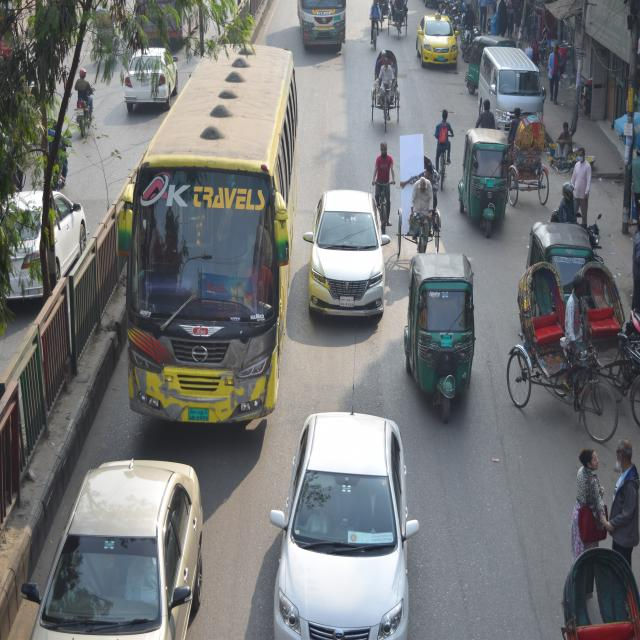bus: (119, 34, 306, 440), (290, 0, 354, 52)
car: (260, 402, 423, 640), (19, 439, 214, 635), (302, 180, 395, 327), (0, 175, 89, 309), (120, 37, 179, 110), (416, 4, 460, 74)
microbus: (478, 44, 546, 135)
motorbike: (73, 70, 101, 144), (575, 208, 613, 258), (453, 0, 476, 48)
